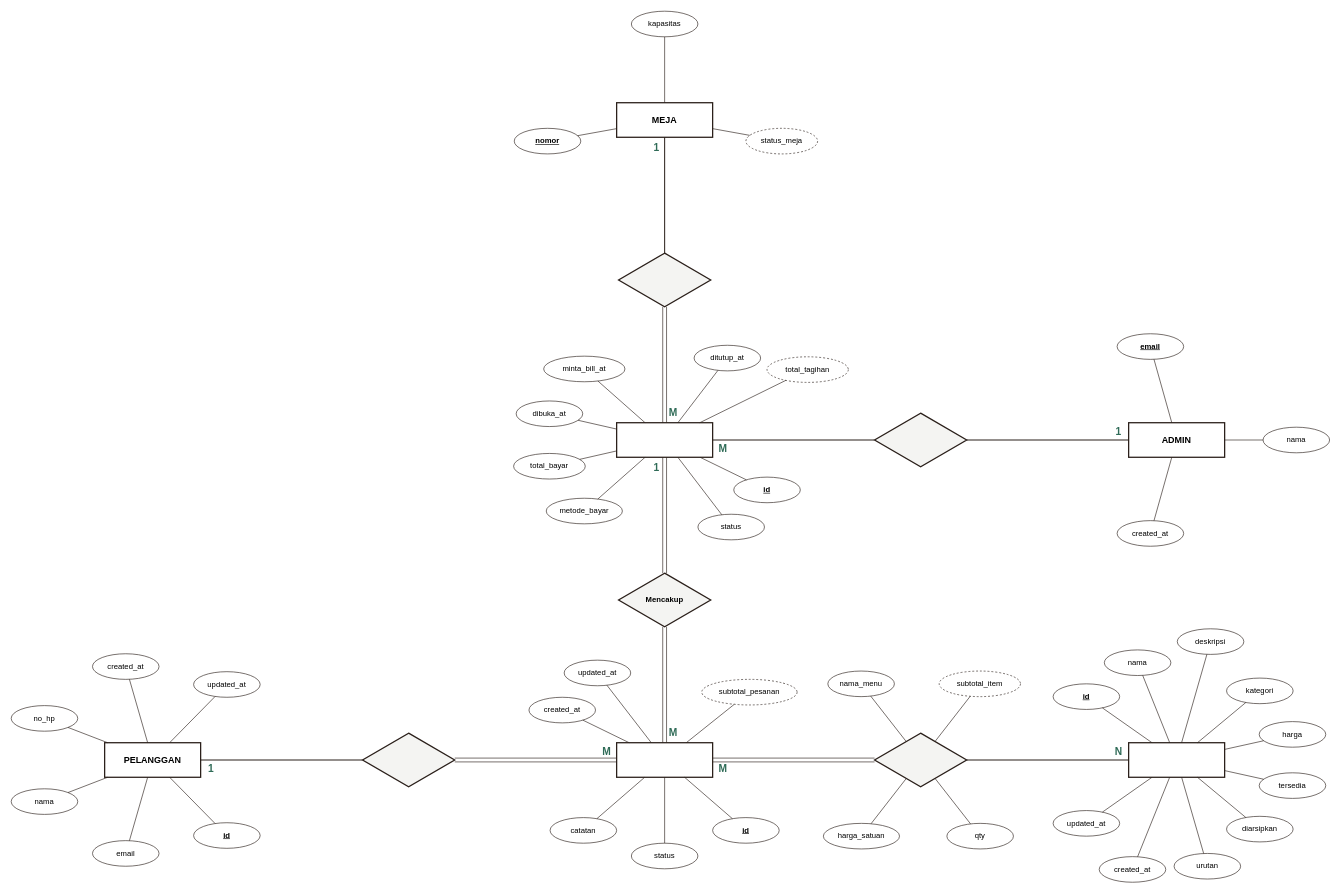
The diagram is 1341 pixels wide and 893 high, and some of its shapes have lost their labels. Each missing label, with the box of its shape:
Berisi: (874, 732, 967, 787)
Membuat: (362, 732, 455, 787)
Memiliki: (618, 252, 711, 307)
Mengonfirmasi: (874, 412, 967, 467)
MENU: (1128, 742, 1225, 778)
PESANAN: (616, 742, 713, 778)
SESI_MEJA: (616, 422, 713, 458)
